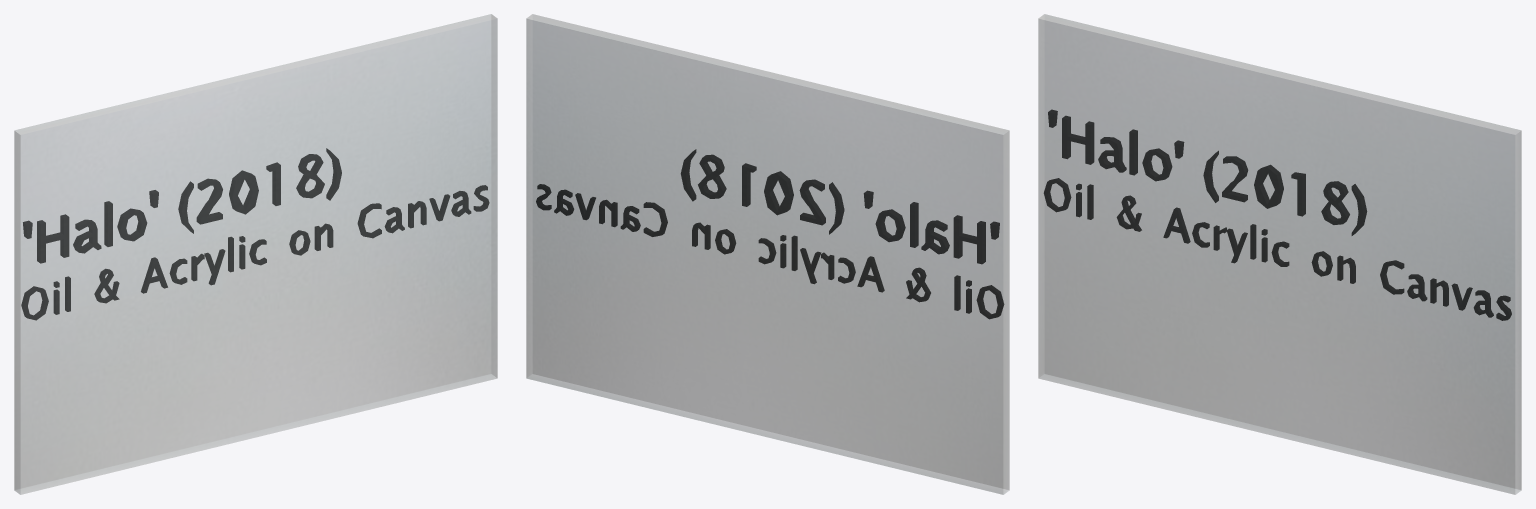
The model's file is Haloglassdisplayed.fbx.
The picture shows the model from 3 angles, left to right: view 1: azimuth 30°, elevation 25°; view 2: azimuth 150°, elevation 25°; view 3: azimuth 330°, elevation 25°; orthographic projection.
Visible parts, largest first — view 1: pCube2, typeMesh, typeMesh1; view 2: pCube2, typeMesh, typeMesh1; view 3: pCube2, typeMesh, typeMesh1.
Boxes of the visible parts, x1,y1,x2,y2 form: pCube2: (14, 14, 497, 494); typeMesh: (23, 148, 341, 263); typeMesh1: (21, 185, 489, 320); pCube2: (526, 14, 1009, 494); typeMesh: (681, 149, 999, 264); typeMesh1: (536, 184, 1004, 319); pCube2: (1038, 14, 1521, 494); typeMesh: (1048, 109, 1366, 235); typeMesh1: (1044, 178, 1511, 320).
Size of the model in its own units: 8.22 by 5.93 by 0.1877.
